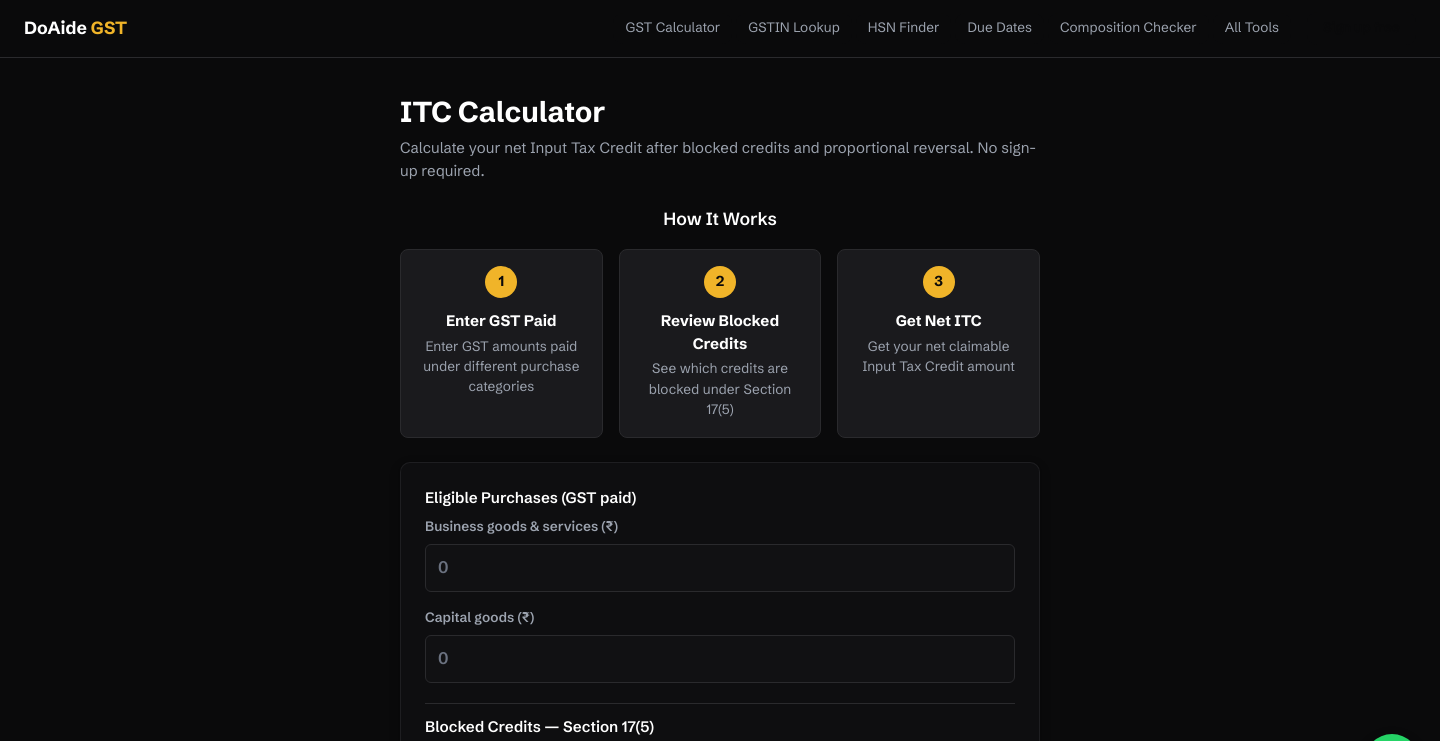
it: ItcCalculatorPage › shows ITC utilisation percentage
Type "50000" into the number field with placeholder "0".
click(720, 568); type("50000")  # box [425,544,1015,592]
(page scrolled)
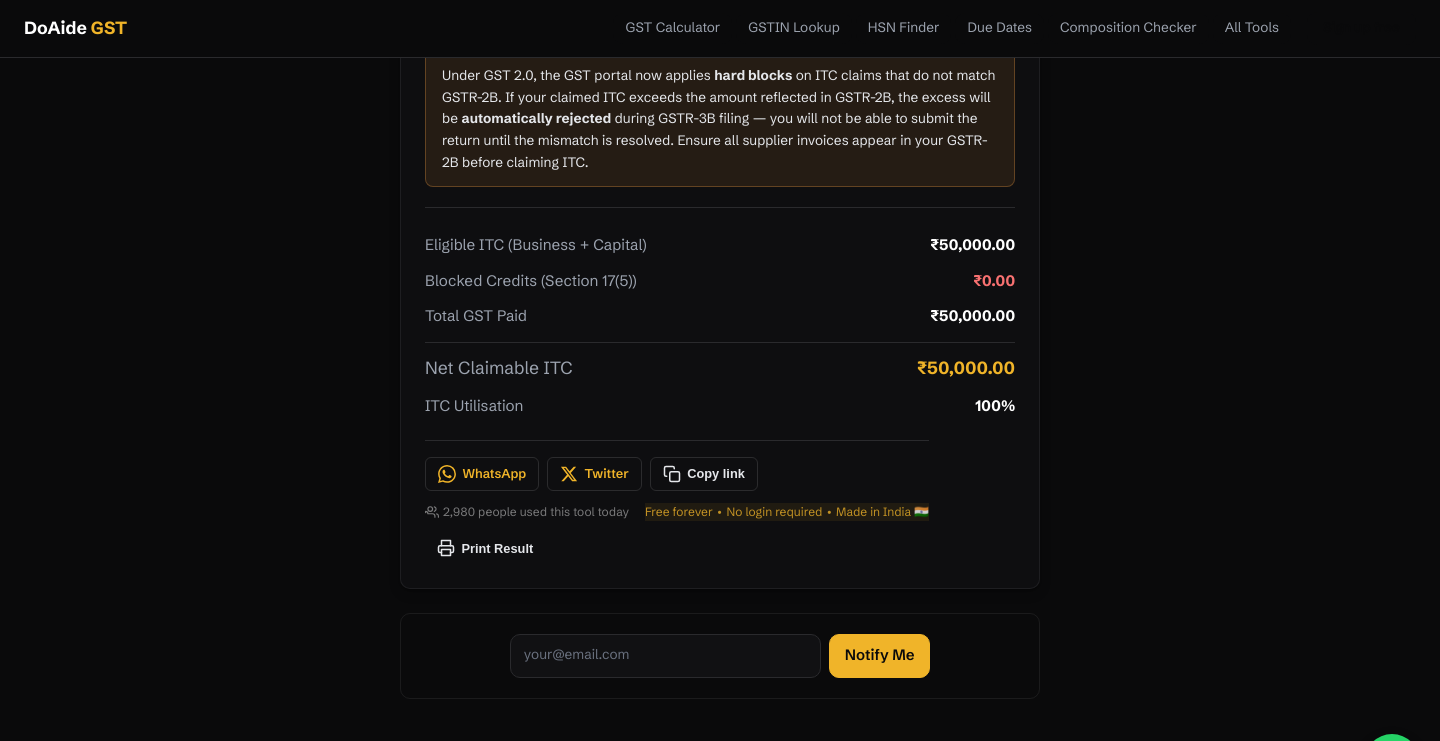
Expected: the text "ITC Utilisation" is shown, [425,395,523,417]
Expected: the text "100%" is shown, [975,395,1015,417]
